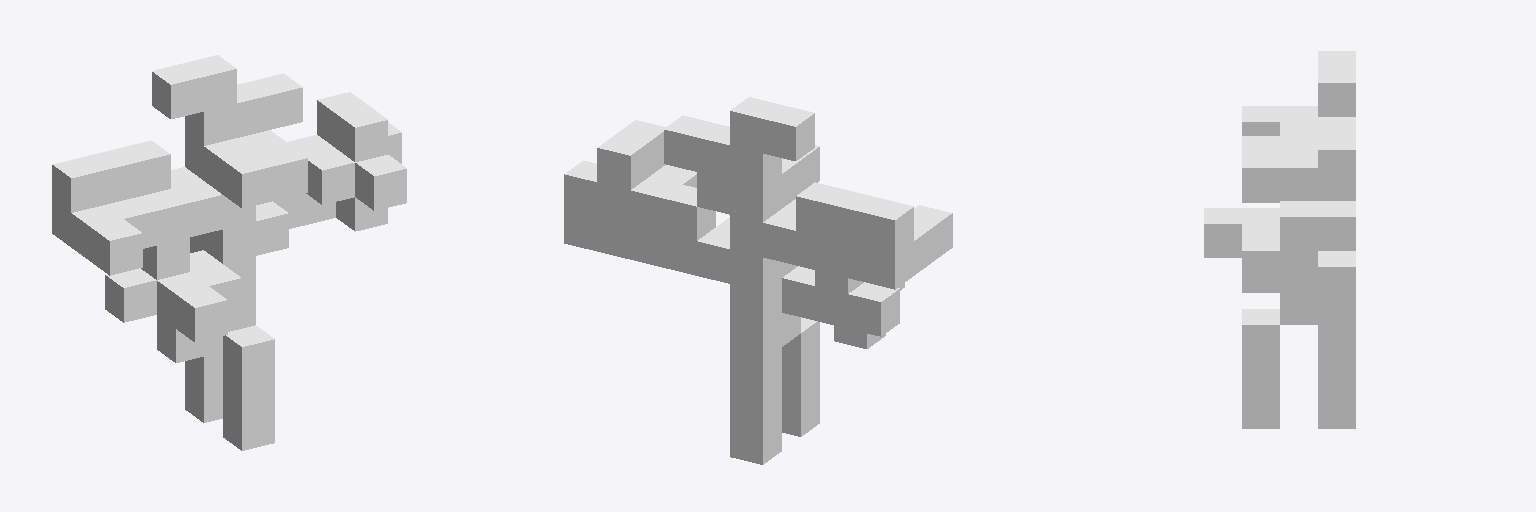
Rendered from stage4.obj.
3 views of the same model, side by side, from view 1: azimuth 30°, elevation 25°; view 2: azimuth 150°, elevation 25°; view 3: azimuth 270°, elevation 25° (orthographic).
Parts seen in each view (by area): view 1: stage4; view 2: stage4; view 3: stage4.
Part boxes in pixels (left/top/right/bottom): stage4: left=52, top=55, right=406, bottom=450; stage4: left=564, top=97, right=952, bottom=464; stage4: left=1204, top=51, right=1355, bottom=428.
Size of the model in its own units: 10 by 10 by 4.